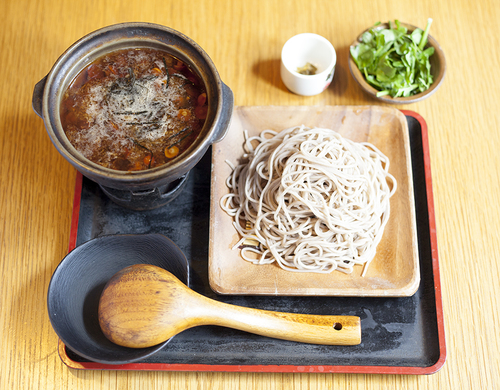Soba: (223, 127, 405, 277)
